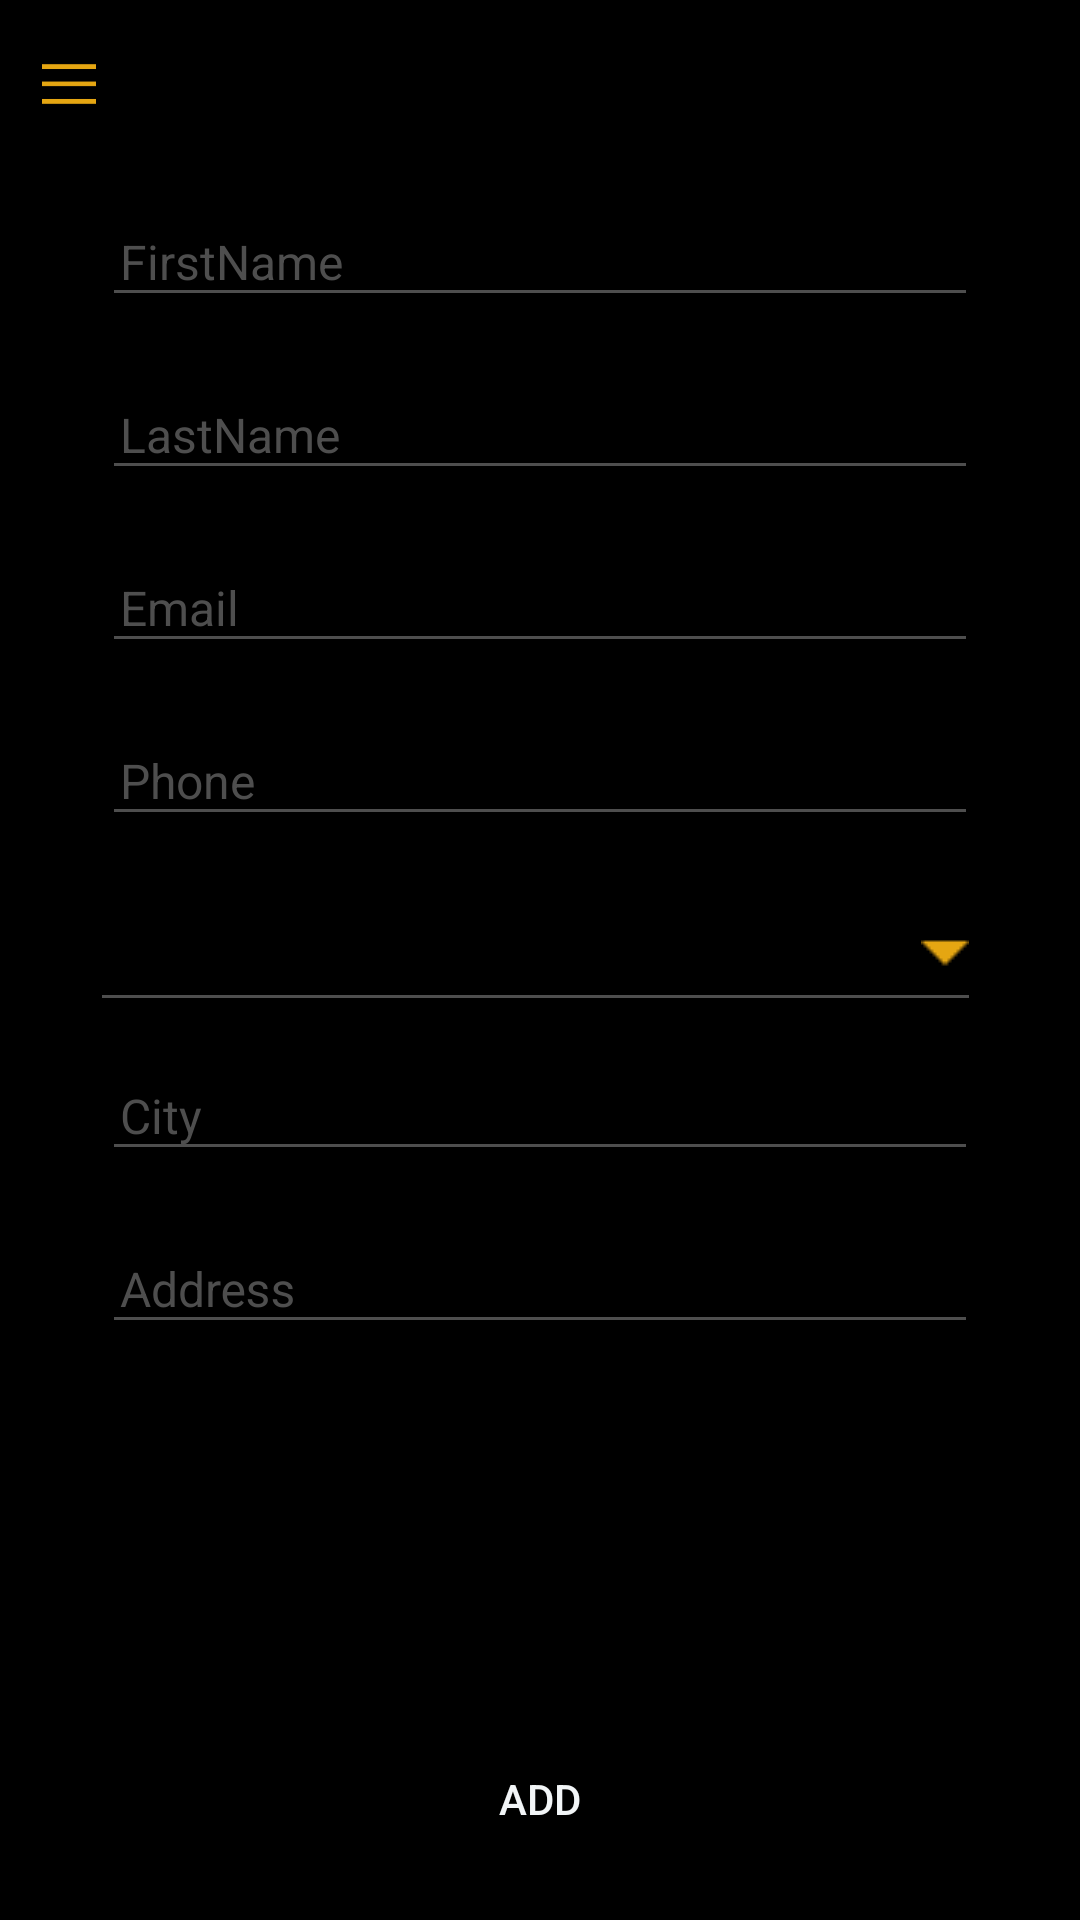

Screen size 1080w x 1920h. Icon name, then its center in pixels as point (x, y):
arrows: point (945, 953)
menu: point (69, 84)
